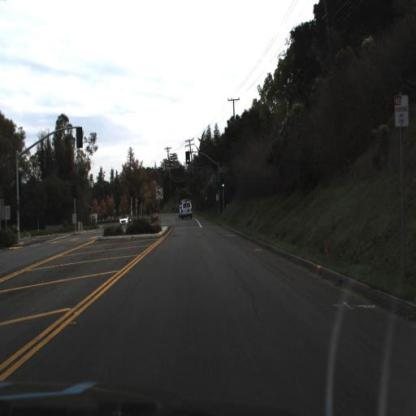car: (178, 201, 194, 220), (119, 214, 131, 230), (118, 213, 129, 229)
trafficLight-Green: (219, 177, 227, 200), (185, 156, 192, 176), (185, 151, 191, 165), (221, 180, 227, 193)
